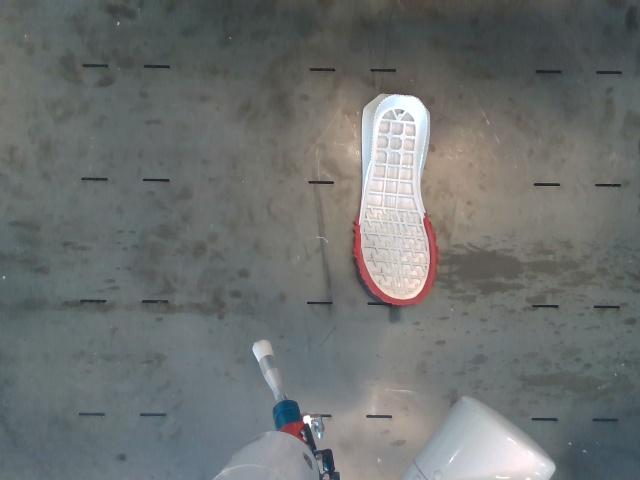shoes: (358, 95, 436, 305)
